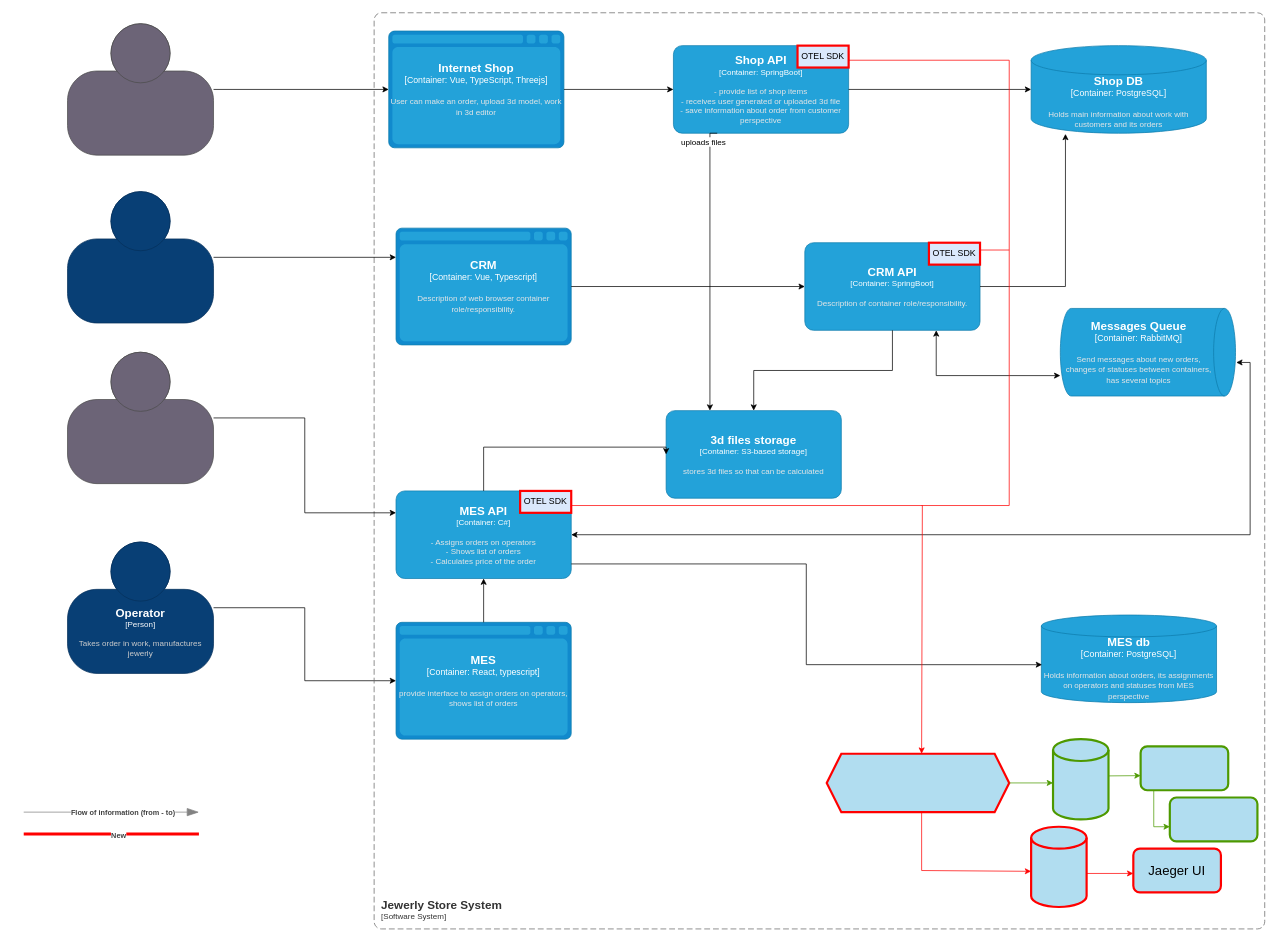
This 1278x942 diagram has some shape labels left out. The shapes that lost their labels are listed below. From the top down, each one's centre as x and y in pixels, then its label:
At pixel 140 89: "Customer [Person] Description of external person.".
At pixel 140 257: "Seller [Person] Operates with order, confirms manufacturing for the user".
At pixel 140 417: "API user [Person] Description of external person.".
At pixel 917 782: "OpenTelemetry Collector".
At pixel 1080 779: "Prometeus".
At pixel 1184 768: "Grafana".
At pixel 1213 819: "Alerting".
At pixel 1058 866: "Jaeger".
